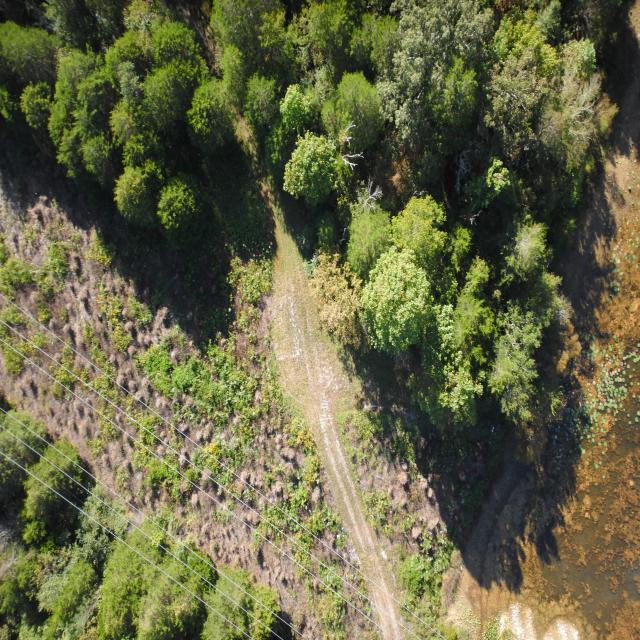Area of Interest: (4, 1, 599, 402), (4, 418, 268, 624)
